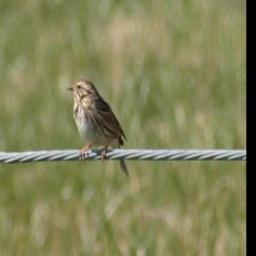Sparrow: (63, 76, 130, 179)
